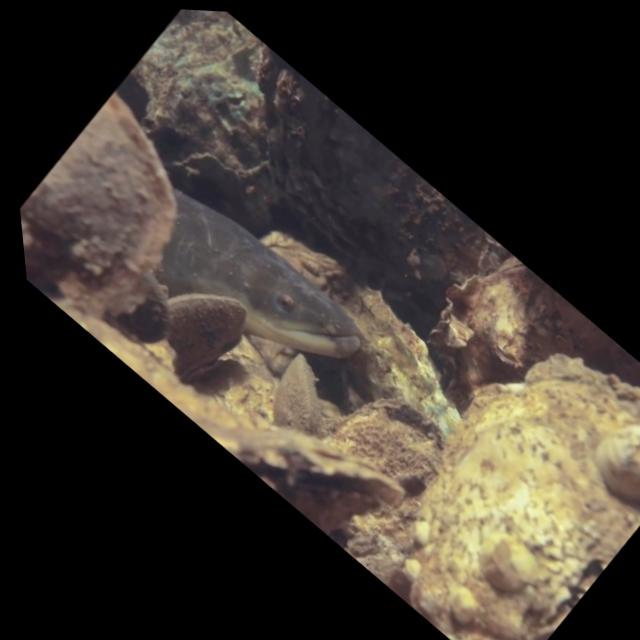Oyster-Closed: (164, 396, 419, 535), (327, 389, 450, 490), (164, 290, 247, 375), (271, 349, 323, 443)
Oyster-Indeterminate: (405, 347, 640, 640), (20, 91, 180, 322)
